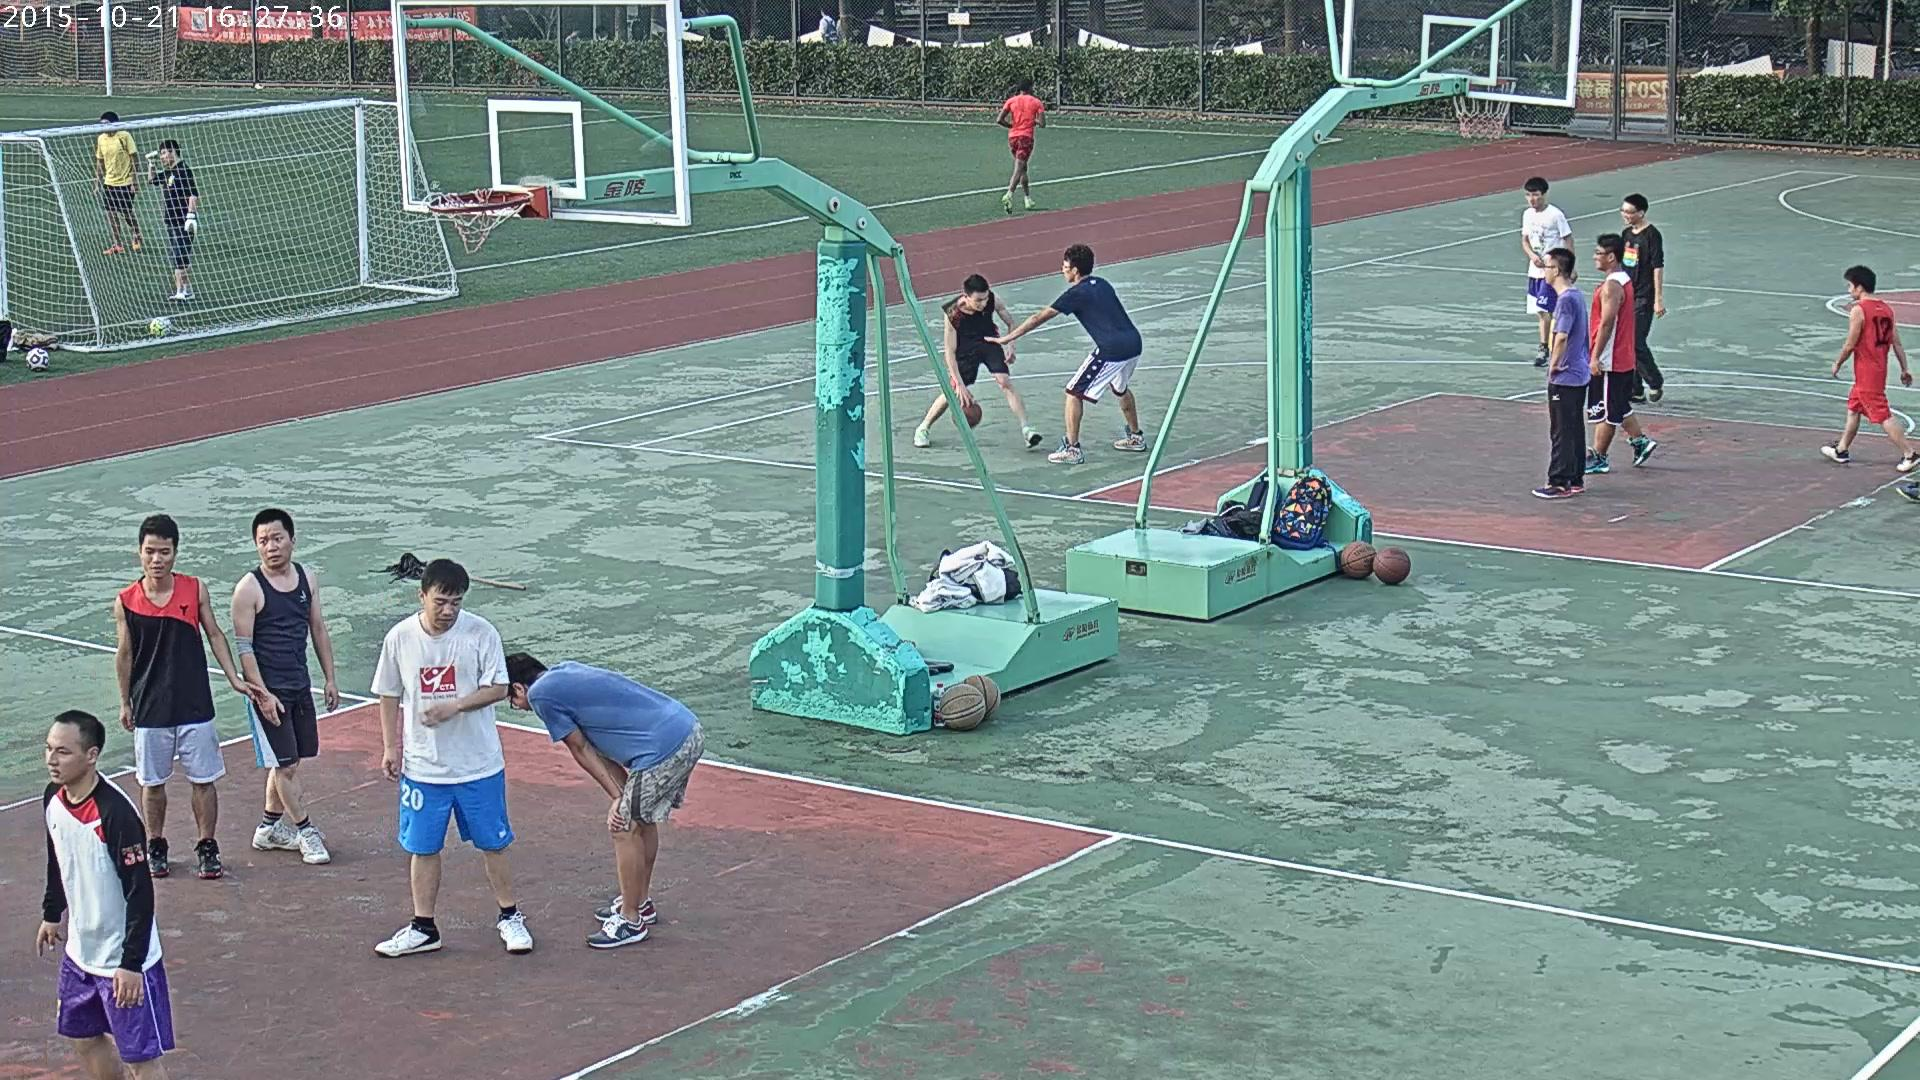face: (45, 721, 87, 784), (424, 582, 462, 630), (256, 520, 291, 567), (141, 534, 174, 577), (506, 695, 532, 713), (967, 289, 988, 310), (1592, 245, 1608, 269), (1620, 202, 1636, 223), (1524, 189, 1542, 207), (1543, 255, 1553, 284), (1061, 259, 1073, 282), (1847, 280, 1858, 299), (159, 148, 170, 166), (98, 119, 110, 124), (573, 29, 580, 35), (819, 10, 823, 15)
